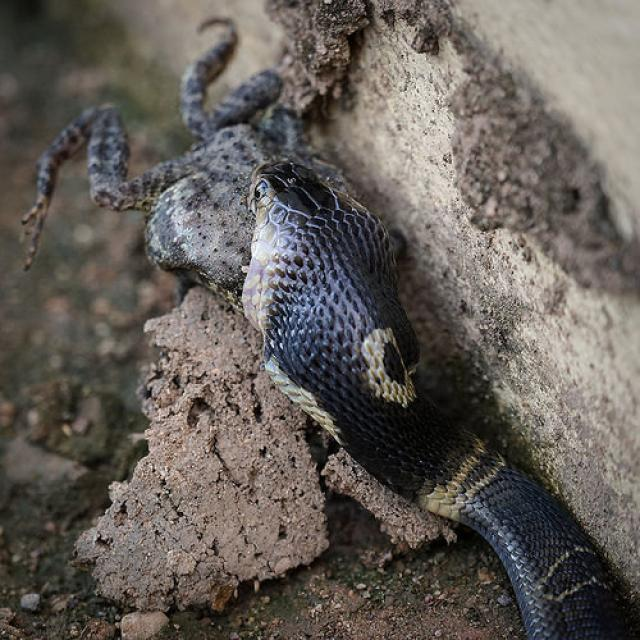Snake: (18, 14, 636, 638)
